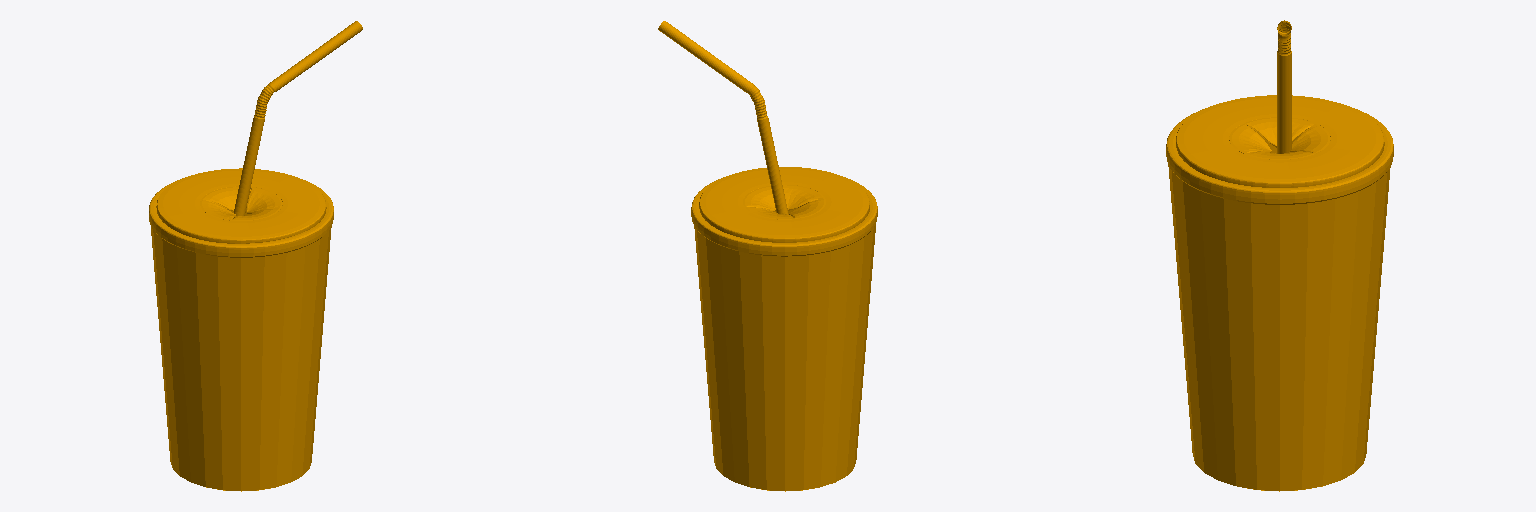
The robot description file, URDF, robot "cola_cup":
<robot name="cola_cup">
  <link name="cola_cup">
    <inertial>
      <origin xyz="0 0 0.0145"/>
      <mass value="0.1" />
      <inertia  ixx="0.0001" ixy="0.0"  ixz="0.0"  iyy="0.0001"  iyz="0.0"  izz="0.0001" />
    </inertial>
    <visual>
      <origin xyz="0 0 0.0145"/>
      <geometry>        
     <mesh filename="cola_cup.dae" scale="1 1 1"/>
    </geometry>
    </visual>
    <collision>
      <origin xyz="0 0 0.0145"/>
      <geometry>
        <box size="0.029 0.029 0.029"/>
      </geometry>
    </collision>
  </link>
  <gazebo reference="cola_cup">
    <material>Gazebo/Blue</material>
  </gazebo>
</robot>

--- Facts derived from the render (not from the file) ---
The picture shows the robot from 3 angles, left to right: view 1: azimuth 30°, elevation 25°; view 2: azimuth 150°, elevation 25°; view 3: azimuth 270°, elevation 25°; orthographic projection.
Robot: cola_cup — 1 links, 0 joints (none); root link cola_cup; default pose: every joint at zero.
Links seen in each view (by area): view 1: cola_cup; view 2: cola_cup; view 3: cola_cup.
Boxes of the visible links, x1,y1,x2,y2 form: cola_cup: (149, 21, 362, 491); cola_cup: (658, 21, 877, 491); cola_cup: (1166, 20, 1393, 491).
Bounding box of the posed robot: 0.1005 × 0.0797 × 0.1949 m (x, y, z).
1 mesh visuals loaded from 1 distinct referenced files (1 Collada DAE).